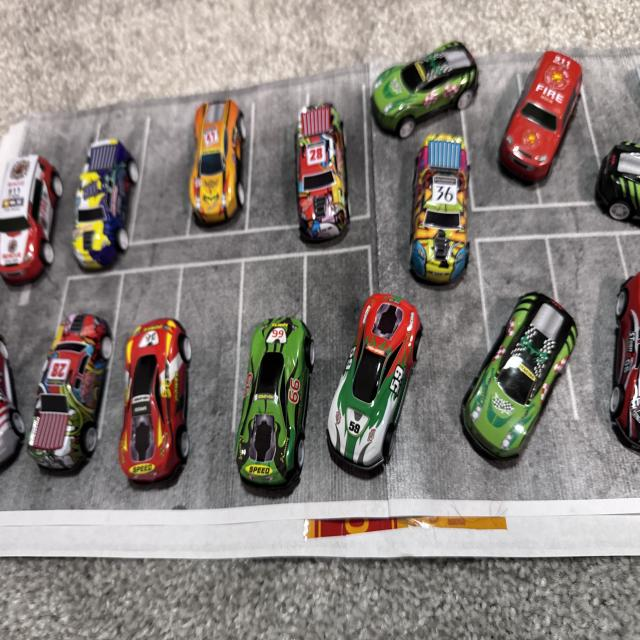Car: (444, 255, 640, 469), (199, 294, 347, 492), (346, 275, 427, 524), (400, 128, 488, 293), (26, 313, 114, 474), (118, 317, 193, 484), (496, 48, 584, 184), (375, 40, 487, 128), (71, 137, 140, 270), (0, 153, 61, 280), (300, 102, 351, 244), (189, 100, 244, 226), (594, 141, 640, 228)
